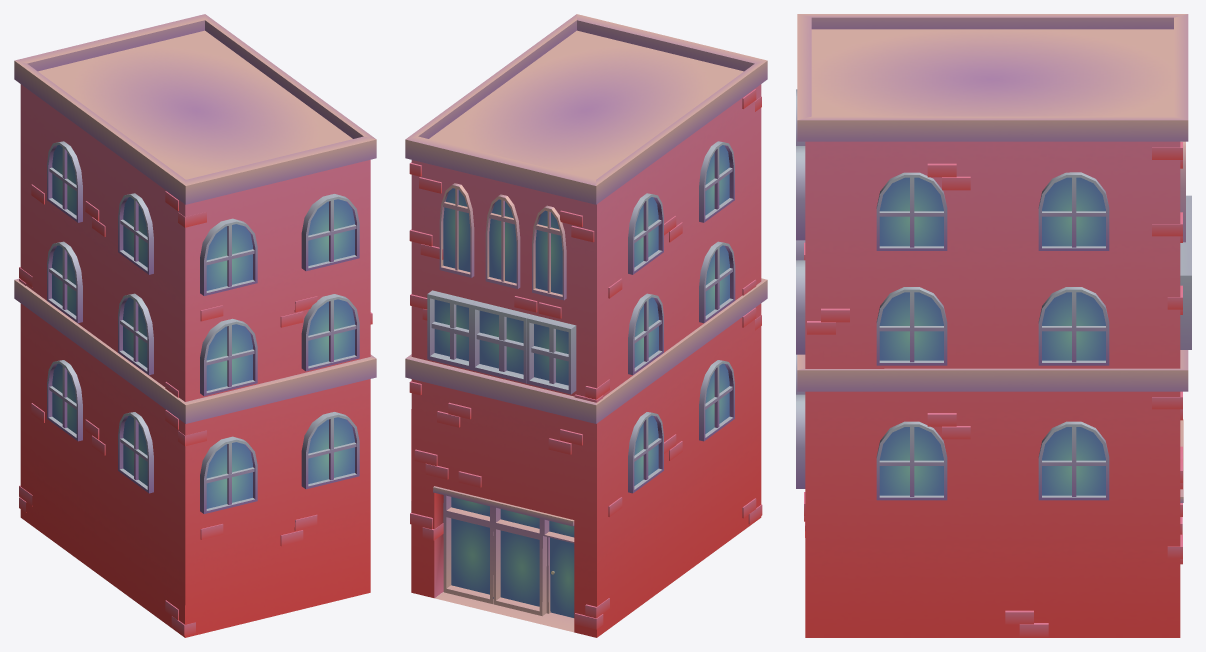
3 renders of one model, left to right at view 1: azimuth 30°, elevation 25°; view 2: azimuth 150°, elevation 25°; view 3: azimuth 270°, elevation 25°, orthographic. The views are drawn at different scales.
Visible parts, largest first — view 1: SM_4F_01; view 2: SM_4F_01; view 3: SM_4F_01.
Part boxes in pixels (x1,y1,x2,y2): SM_4F_01: (14, 14, 376, 637); SM_4F_01: (405, 14, 767, 637); SM_4F_01: (796, 14, 1191, 637).
Size of the model in its own units: 6.01 by 9.26 by 13.41.
